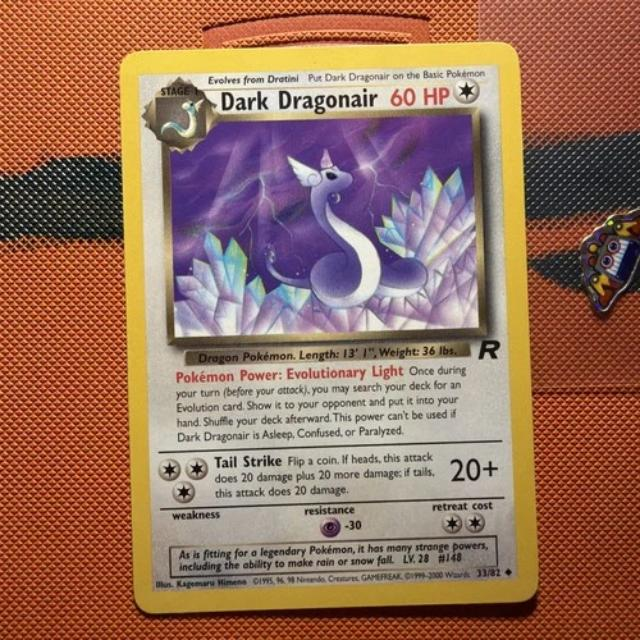Card: (112, 37, 547, 623)
Name: (211, 85, 384, 115)
